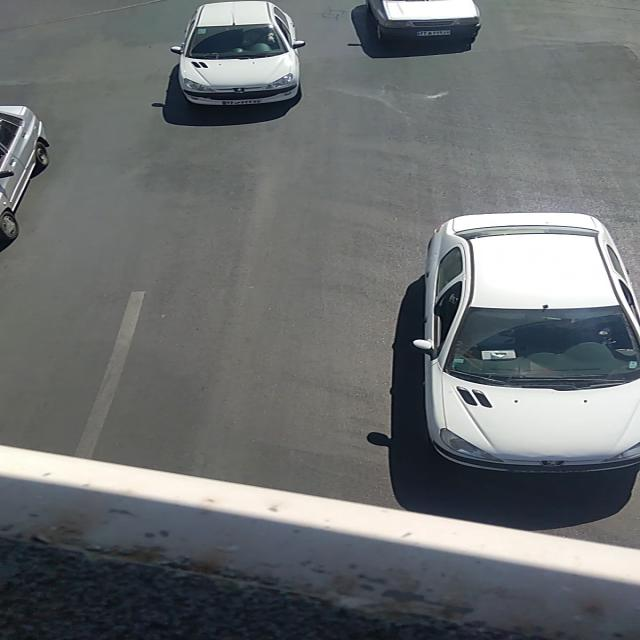car: (416, 214, 639, 472), (170, 1, 308, 105), (1, 103, 52, 250), (363, 1, 480, 42)
